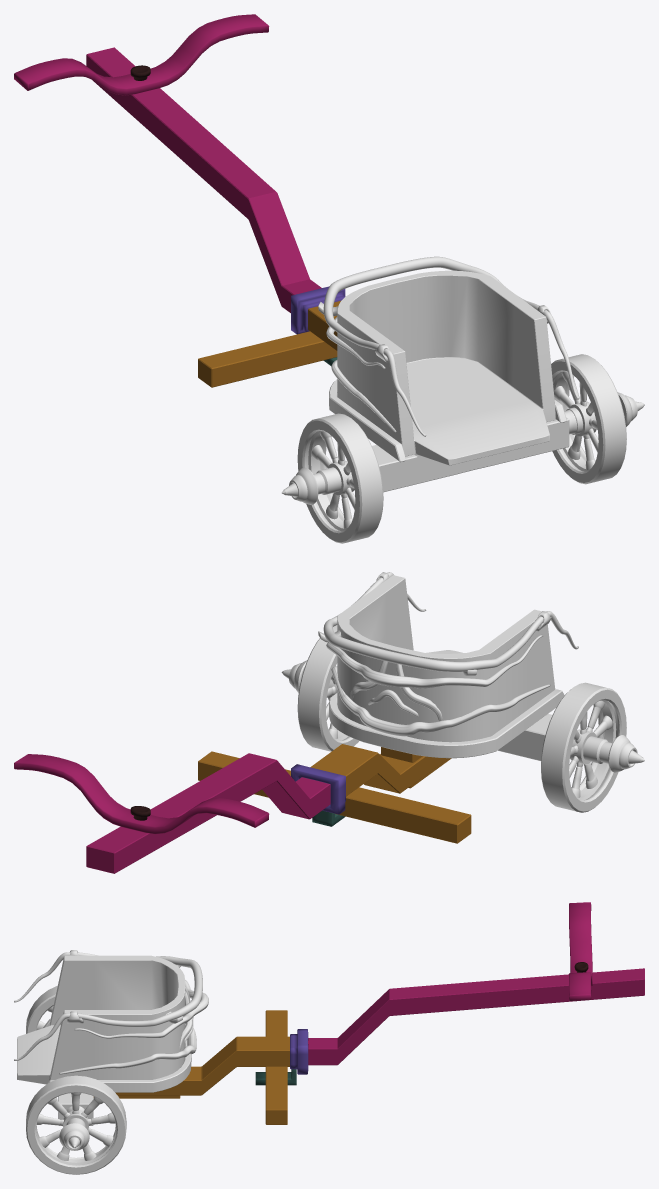
File: DM03_1_ChariotWar_Low_v1.fbx
The picture shows the model from 3 angles, top to bottom: view 1: azimuth 30°, elevation 25°; view 2: azimuth 150°, elevation 25°; view 3: azimuth 270°, elevation 25°; orthographic projection. The views are drawn at different scales.
Parts seen in each view (by area): view 1: D01_Chariot_Box_Low, D07_Vertical_Axis_2_Low, D04_Chariot_Wheels_Low, D06_Vertical_Axis_1_Low, D03_Axis_Chariot_Low, D02_Braces_Low, D05_Wheels_inner_Low; view 2: D01_Chariot_Box_Low, D07_Vertical_Axis_2_Low, D04_Chariot_Wheels_Low, D06_Vertical_Axis_1_Low, D02_Braces_Low, D03_Axis_Chariot_Low; view 3: D01_Chariot_Box_Low, D07_Vertical_Axis_2_Low, D06_Vertical_Axis_1_Low, D04_Chariot_Wheels_Low, D02_Braces_Low, D03_Axis_Chariot_Low.
Boxes of the visible parts, x1=… form: D01_Chariot_Box_Low: x1=329, y1=270, x2=566, y2=465; D07_Vertical_Axis_2_Low: x1=14, y1=14, x2=321, y2=312; D04_Chariot_Wheels_Low: x1=297, y1=354, x2=626, y2=543; D06_Vertical_Axis_1_Low: x1=198, y1=286, x2=345, y2=387; D03_Axis_Chariot_Low: x1=282, y1=392, x2=644, y2=504; D02_Braces_Low: x1=318, y1=256, x2=578, y2=436; D05_Wheels_inner_Low: x1=328, y1=401, x2=596, y2=495; D01_Chariot_Box_Low: x1=329, y1=575, x2=564, y2=758; D07_Vertical_Axis_2_Low: x1=14, y1=753, x2=330, y2=873; D04_Chariot_Wheels_Low: x1=297, y1=625, x2=626, y2=812; D06_Vertical_Axis_1_Low: x1=198, y1=744, x2=471, y2=843; D02_Braces_Low: x1=318, y1=572, x2=578, y2=736; D03_Axis_Chariot_Low: x1=281, y1=660, x2=644, y2=772; D01_Chariot_Box_Low: x1=17, y1=955, x2=191, y2=1092; D07_Vertical_Axis_2_Low: x1=308, y1=902, x2=644, y2=1065; D06_Vertical_Axis_1_Low: x1=93, y1=1010, x2=308, y2=1124; D04_Chariot_Wheels_Low: x1=26, y1=985, x2=126, y2=1174; D02_Braces_Low: x1=14, y1=950, x2=208, y2=1074; D03_Axis_Chariot_Low: x1=58, y1=1093, x2=93, y2=1150.
Bounding box in the file's own units: 594 × 356 × 1138.
